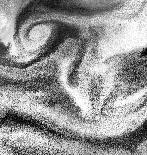CE: (16, 14, 52, 54)
